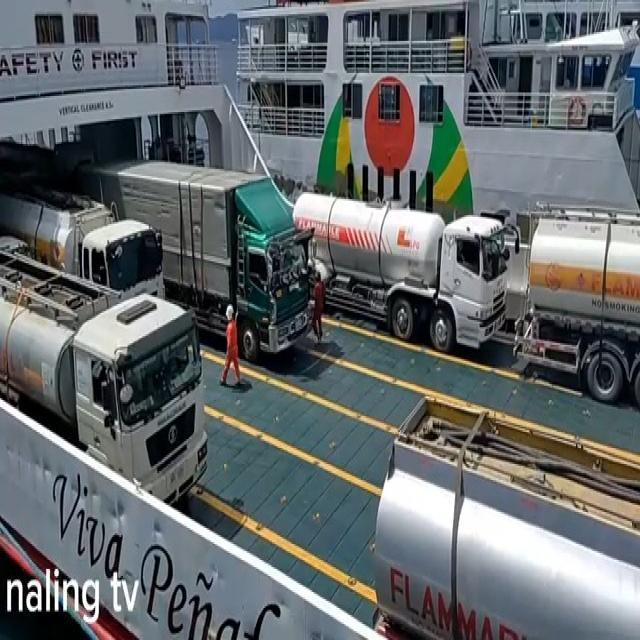truck: (372, 393, 640, 640), (0, 247, 208, 510), (97, 156, 316, 364), (292, 192, 510, 357), (510, 196, 640, 401), (1, 183, 168, 318)
